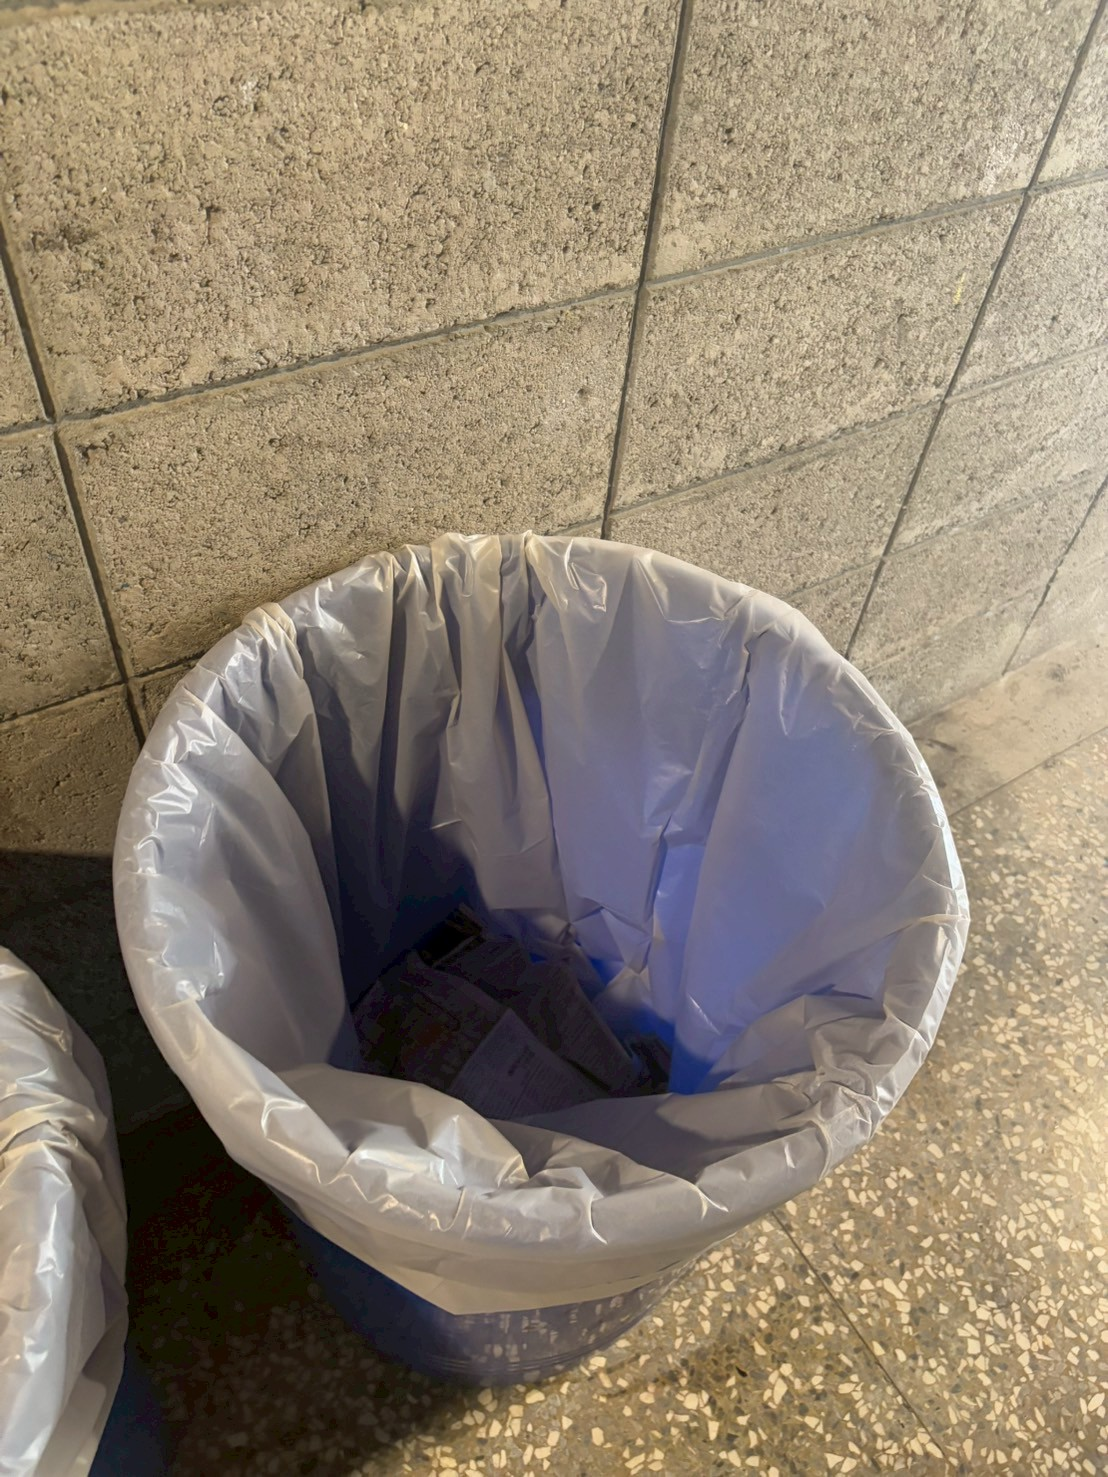normal_bin: (97, 487, 976, 1422)
